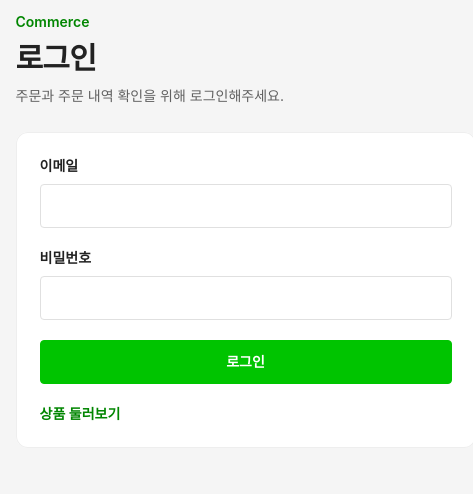
Test: LoginPage › 로그인 실패 응답을 받으면 API 메시지를 보여주고 이동하지 않는다
Type "looper1@loopers.dev" into the field labelled "이메일" at (246, 206), box [40, 184, 452, 228]
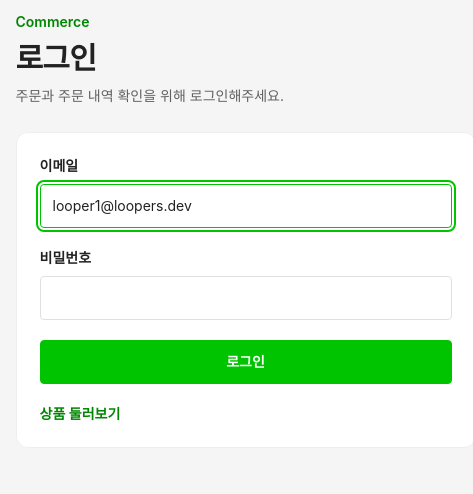
Type "wrong-password" into the password field labelled "비밀번호" at (246, 298), box [40, 276, 452, 320]
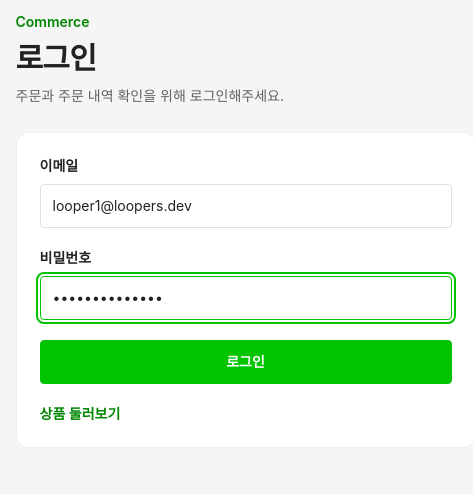
Click the button "로그인" at (246, 362), box [40, 340, 452, 384]
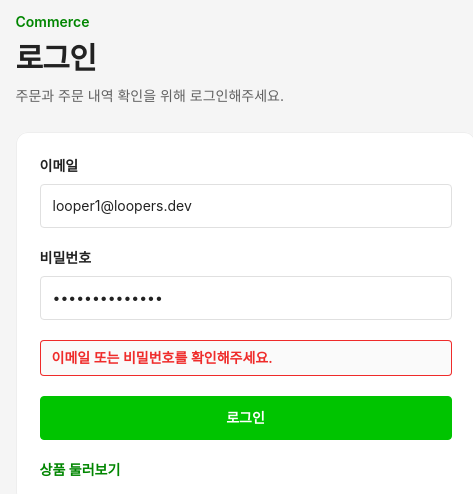
Result: the text "이메일 또는 비밀번호를 확인해주세요." is shown at [40, 340, 452, 376]
